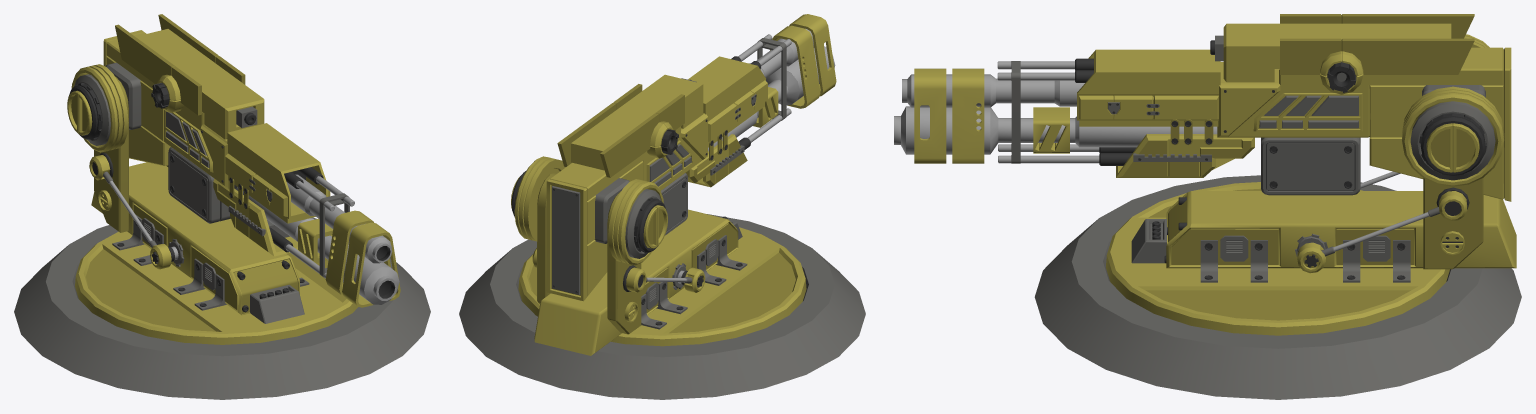
The model's file is turret.glb.
The picture shows the model from 3 angles, left to right: view 1: azimuth 30°, elevation 25°; view 2: azimuth 150°, elevation 25°; view 3: azimuth 270°, elevation 25°; orthographic projection. The views are drawn at different scales.
Parts seen in each view (by area): view 1: pCylinder22, pCylinder23, pCube1, pCube9, pCube7, pCube5, polySurface28, pCube6, pCylinder3, Turret_Detail_pCube13, polySurface55, polySurface53 (+20 smaller); view 2: pCylinder22, pCylinder23, pCube5, pCube1, pCube7, pCube9, polySurface53, polySurface28, polySurface55, Turret_Detail_pCube22, Turret_Detail_pCube13, pCylinder3 (+17 smaller); view 3: pCylinder22, pCylinder23, pCube1, pCube5, pCube9, polySurface28, pCube7, pCube6, pCylinder3, pCube10, pCube15, polySurface55 (+25 smaller).
Boxes of the visible parts, x1=… form: pCylinder22: x1=14, y1=217, x2=430, y2=399; pCylinder23: x1=75, y1=231, x2=357, y2=344; pCube1: x1=91, y1=162, x2=299, y2=315; pCube9: x1=225, y1=123, x2=330, y2=223; pCube7: x1=135, y1=29, x2=264, y2=139; pCube5: x1=103, y1=30, x2=236, y2=189; polySurface28: x1=115, y1=14, x2=245, y2=115; pCube6: x1=168, y1=147, x2=230, y2=223; pCylinder3: x1=235, y1=187, x2=399, y2=304; Turret_Detail_pCube13: x1=342, y1=222, x2=400, y2=307; polySurface55: x1=94, y1=76, x2=168, y2=232; polySurface53: x1=71, y1=64, x2=128, y2=152; pCylinder22: x1=459, y1=214, x2=865, y2=399; pCylinder23: x1=518, y1=227, x2=806, y2=346; pCube5: x1=546, y1=113, x2=707, y2=301; pCube1: x1=534, y1=209, x2=738, y2=355; pCube7: x1=571, y1=74, x2=703, y2=170; pCube9: x1=688, y1=56, x2=767, y2=147; polySurface53: x1=514, y1=156, x2=663, y2=265; polySurface28: x1=557, y1=84, x2=684, y2=177; polySurface55: x1=537, y1=172, x2=641, y2=334; Turret_Detail_pCube22: x1=766, y1=25, x2=820, y2=108; Turret_Detail_pCube13: x1=789, y1=14, x2=836, y2=96; pCylinder3: x1=708, y1=46, x2=835, y2=151; pCylinder22: x1=1034, y1=175, x2=1521, y2=399; pCylinder23: x1=1106, y1=182, x2=1449, y2=335; pCube1: x1=1166, y1=191, x2=1516, y2=268; pCube5: x1=1217, y1=47, x2=1511, y2=201; pCube9: x1=1077, y1=49, x2=1220, y2=126; polySurface28: x1=1280, y1=14, x2=1474, y2=74; pCube7: x1=1223, y1=23, x2=1451, y2=82; pCube6: x1=1261, y1=137, x2=1360, y2=195; pCylinder3: x1=894, y1=106, x2=1217, y2=154; pCube10: x1=1116, y1=134, x2=1254, y2=177; pCube15: x1=1253, y1=93, x2=1362, y2=131; polySurface55: x1=1423, y1=178, x2=1483, y2=269.
Bounding box in the file's own units: 39.72 × 24.24 × 51.18.
